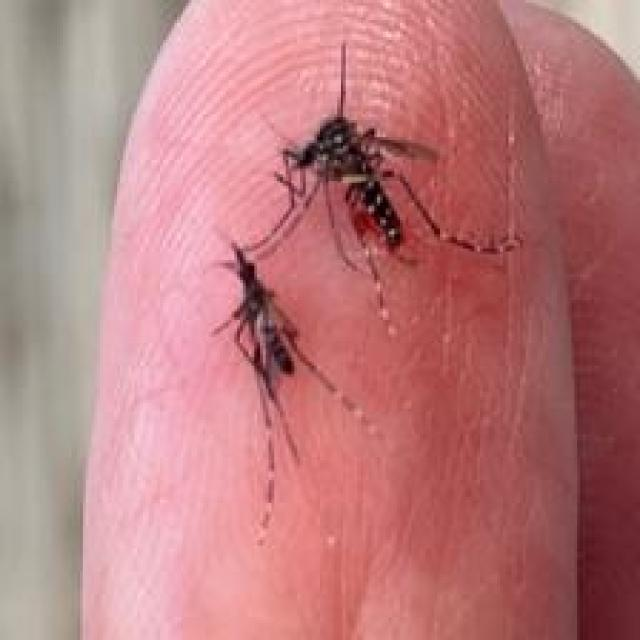Aedes albopictus: (210, 240, 379, 543)
